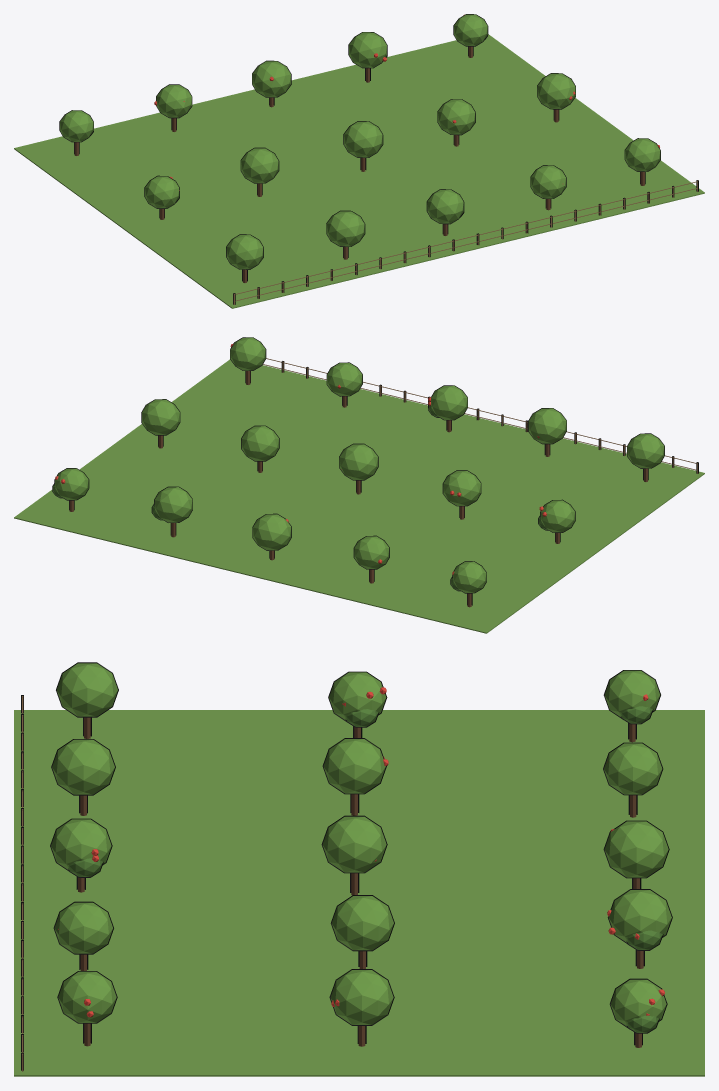
Rendered from Kir_alan_meyve_2.fbx.
3 views of the same model, one above another, from view 1: azimuth 30°, elevation 25°; view 2: azimuth 150°, elevation 25°; view 3: azimuth 270°, elevation 25° (orthographic). The views are drawn at different scales.
Visible parts, largest first — view 1: Kir_alan_meyve_2; view 2: Kir_alan_meyve_2; view 3: Kir_alan_meyve_2.
Boxes of the visible parts, box(x1,y1,x2,y2) form: Kir_alan_meyve_2: box(14, 14, 704, 308); Kir_alan_meyve_2: box(14, 337, 704, 633); Kir_alan_meyve_2: box(14, 662, 704, 1076).
Bounding box in the file's own units: 50 × 5 × 40.
